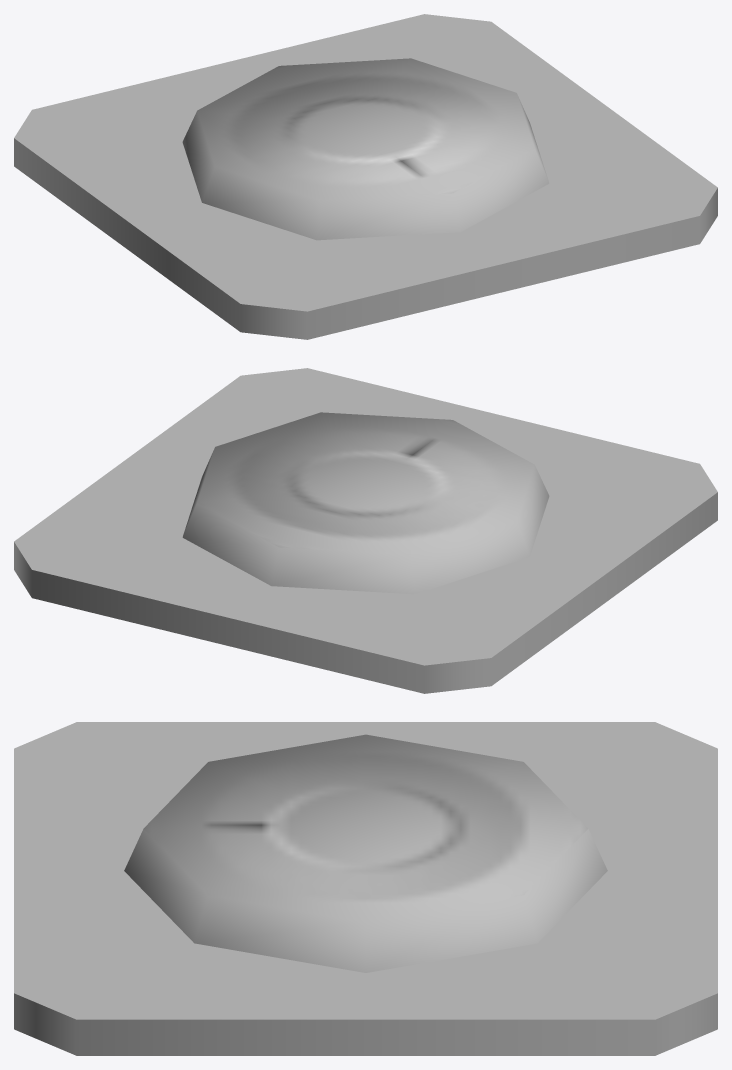
File: dimmer.FBX
3 views of the same model, one above another, from view 1: azimuth 30°, elevation 25°; view 2: azimuth 150°, elevation 25°; view 3: azimuth 270°, elevation 25° (orthographic). The views are drawn at different scales.
Parts seen in each view (by area): view 1: dimmer; view 2: dimmer; view 3: dimmer.
Part boxes in pixels (bbox=[...]): dimmer: bbox=[14, 14, 717, 339]; dimmer: bbox=[14, 368, 717, 693]; dimmer: bbox=[14, 722, 717, 1055].
Size of the model in its own units: 15.21 by 1.87 by 15.21.
